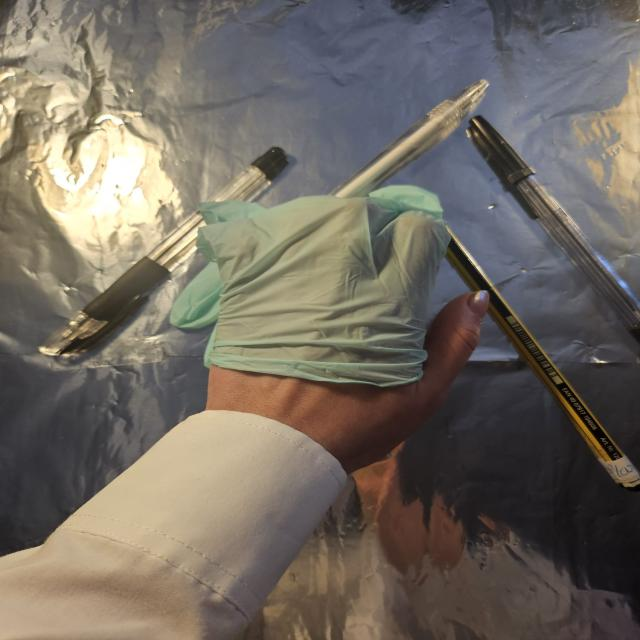glove_partial: (166, 183, 492, 464)
